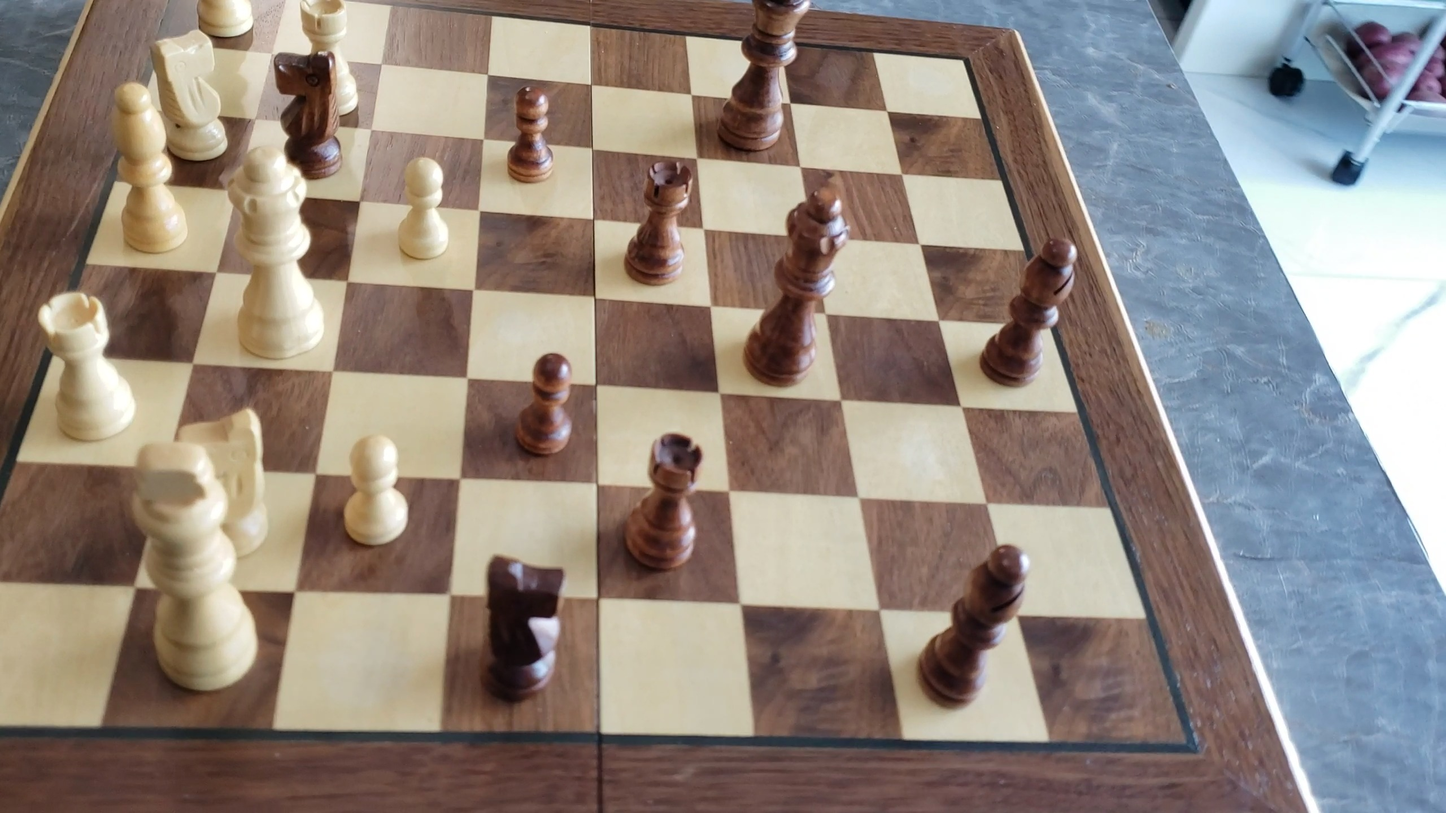black-bishop: (914, 541, 1034, 710), (979, 233, 1081, 387), (717, 0, 813, 152)
black-knight: (478, 550, 568, 703), (272, 49, 346, 178)
black-pawn: (514, 349, 577, 458), (504, 80, 556, 185)
black-queen: (742, 169, 856, 387)
black-rook: (622, 430, 705, 572), (624, 156, 696, 286)
white-bishop: (105, 77, 191, 257)
white-king: (118, 436, 266, 700)
white-knight: (169, 403, 277, 560), (146, 29, 232, 164)
white-pawn: (334, 429, 416, 553), (389, 150, 458, 266)
white-queen: (220, 139, 331, 366)
white-rook: (33, 287, 142, 445)
